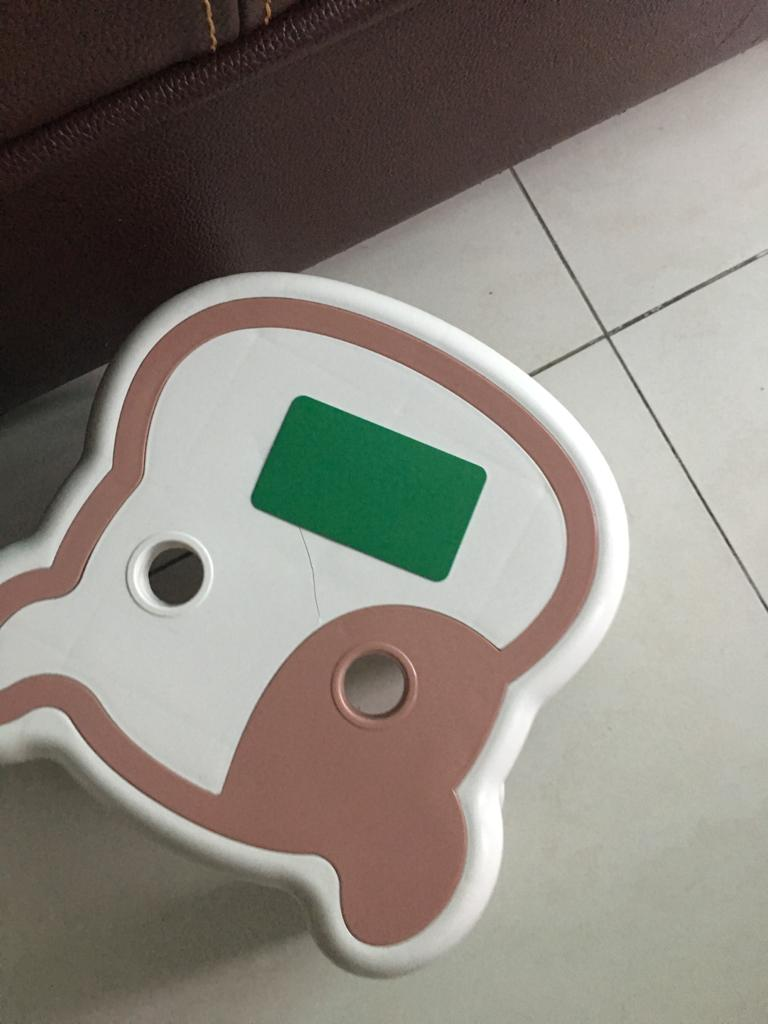green: (224, 376, 503, 600)
